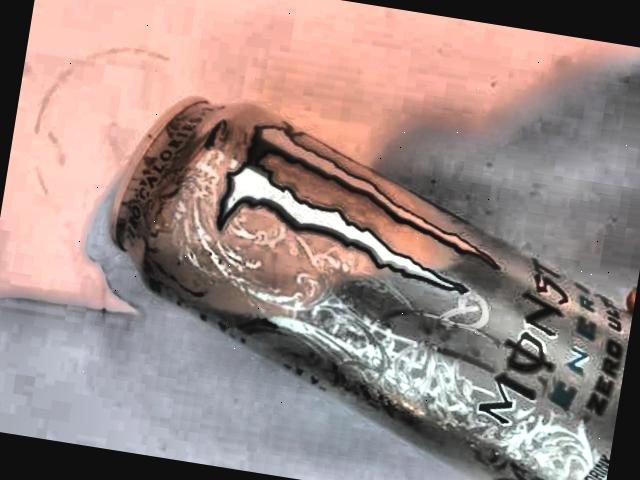Bottles: (69, 76, 640, 480)
